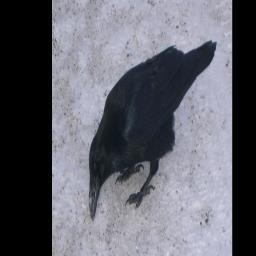Crow: (89, 40, 218, 220)
